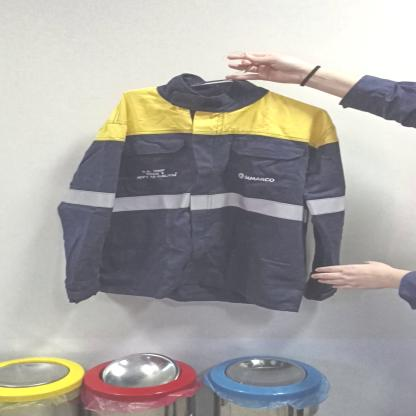C_eletrica: (62, 78, 346, 312)
